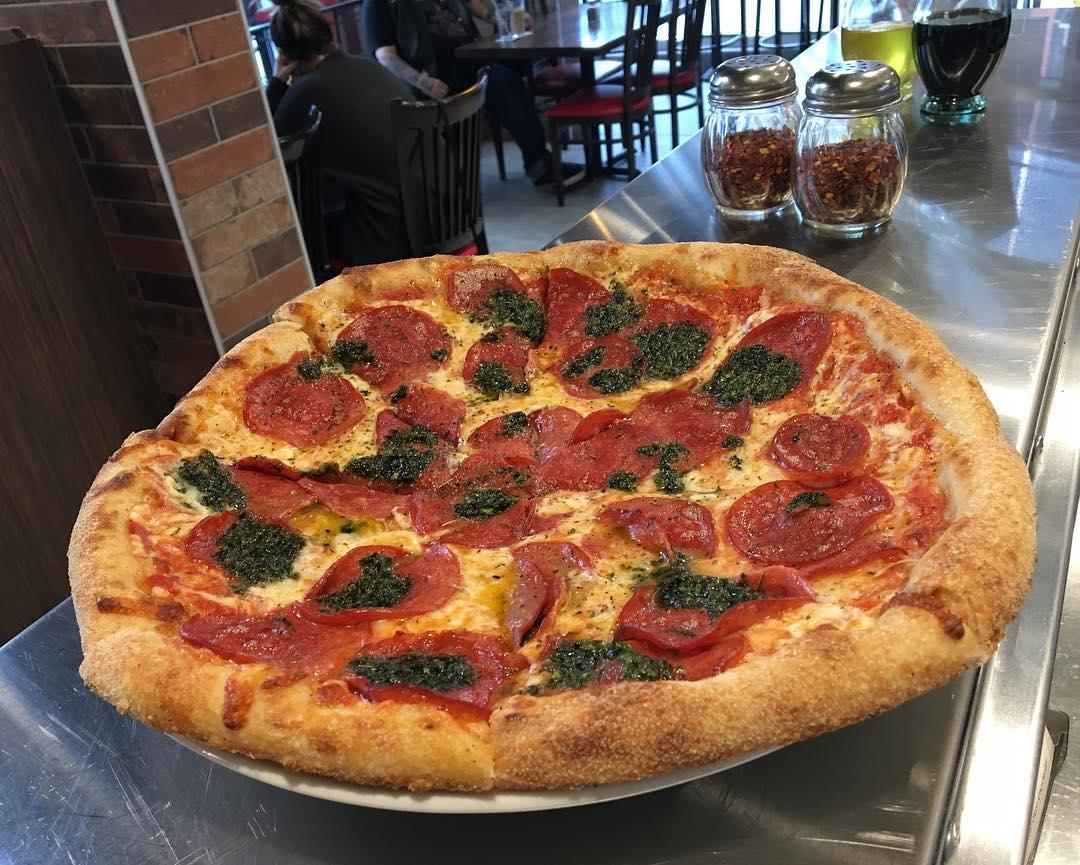Pepperoni: (611, 570, 806, 643), (740, 473, 891, 556), (356, 633, 527, 699), (177, 511, 306, 583), (338, 302, 455, 377), (246, 367, 366, 438), (535, 421, 660, 489), (716, 314, 835, 385), (603, 296, 712, 372), (521, 265, 611, 352), (320, 550, 451, 608), (629, 389, 748, 451), (408, 482, 533, 541), (181, 608, 300, 665), (300, 467, 410, 528), (775, 416, 867, 484), (610, 497, 714, 556), (469, 409, 582, 458), (377, 382, 465, 443), (219, 456, 301, 510), (566, 339, 642, 393), (449, 264, 525, 313), (464, 330, 530, 386), (510, 563, 559, 632)
Pizza: (63, 244, 1040, 784)
